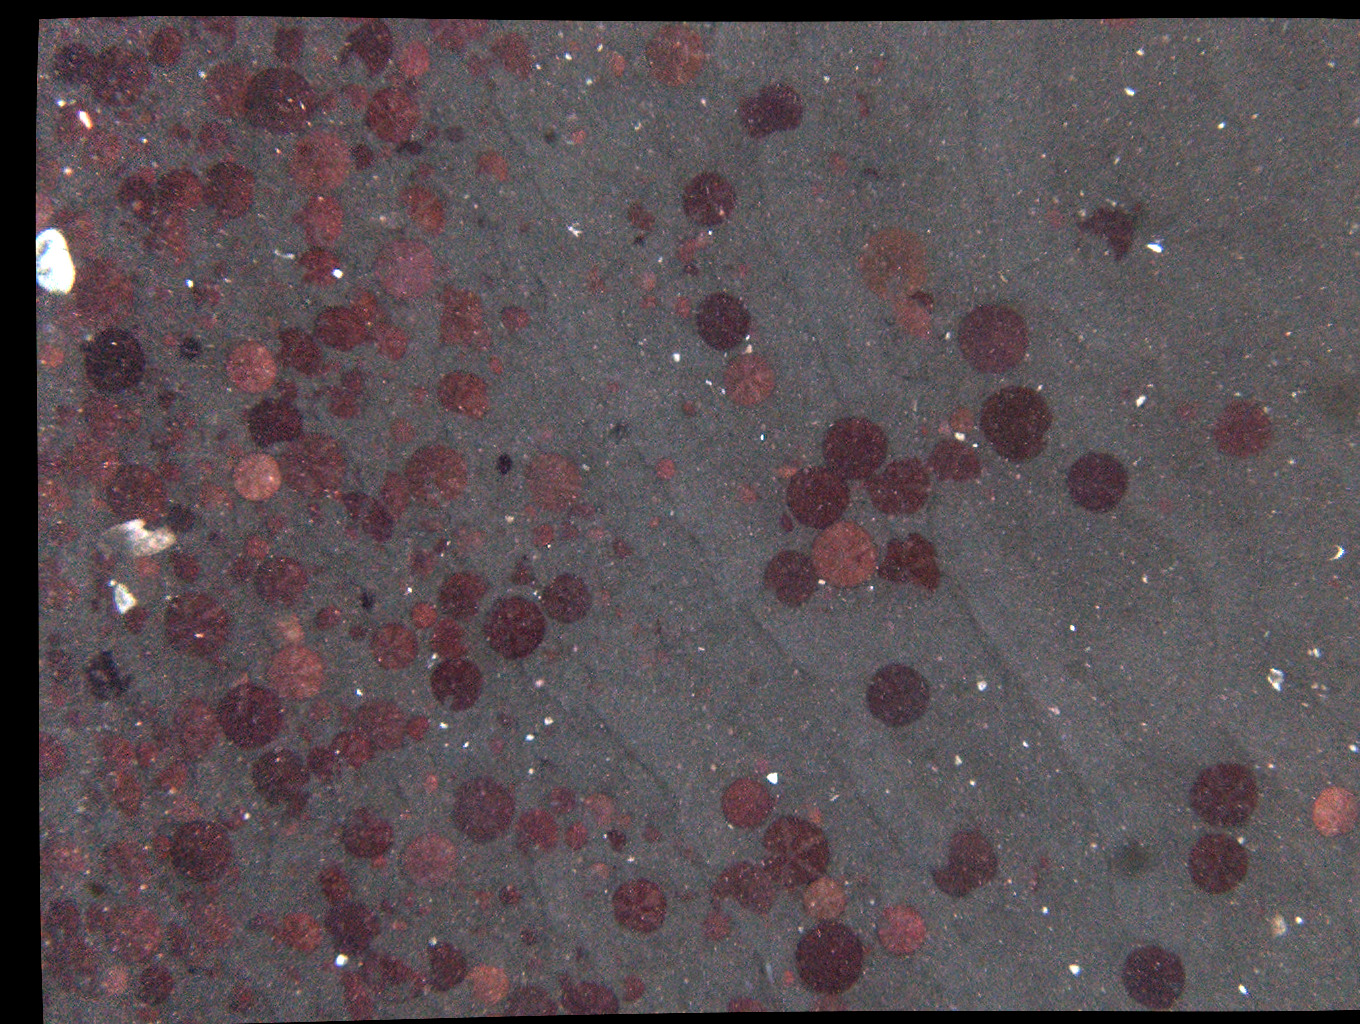Small shell hash: (57, 22, 80, 37)
Substrate A: (108, 11, 127, 28)
sand dollar: (987, 387, 1061, 463), (857, 227, 932, 297), (71, 250, 142, 321), (479, 596, 552, 665), (817, 520, 888, 588), (930, 829, 1001, 896), (642, 25, 710, 94), (247, 65, 314, 134), (867, 665, 935, 730), (1209, 396, 1278, 461), (162, 594, 232, 658), (1187, 837, 1255, 902), (1187, 764, 1255, 829), (958, 305, 1026, 371), (613, 880, 679, 945), (1079, 200, 1146, 266), (1118, 944, 1186, 1009), (764, 824, 832, 888), (824, 412, 891, 475), (224, 685, 288, 750), (1066, 449, 1133, 511), (407, 443, 476, 502), (283, 432, 343, 499), (450, 778, 514, 840), (787, 465, 850, 525), (86, 46, 151, 104), (884, 534, 944, 594), (85, 333, 147, 390), (714, 862, 776, 915), (51, 207, 108, 264), (427, 662, 484, 717), (368, 618, 425, 674), (522, 447, 579, 503), (326, 968, 383, 1024), (60, 931, 117, 987), (348, 478, 405, 534), (252, 563, 309, 618), (566, 959, 622, 1015), (504, 968, 561, 1024), (448, 961, 505, 1016), (190, 478, 247, 534), (333, 23, 390, 79), (283, 321, 340, 376), (137, 169, 194, 225), (34, 24, 91, 80), (86, 387, 143, 443), (61, 431, 118, 487), (765, 552, 822, 607), (1303, 781, 1360, 836), (875, 904, 932, 958), (714, 779, 771, 834), (438, 564, 495, 618), (547, 575, 604, 630), (924, 439, 980, 494), (873, 463, 930, 517), (896, 287, 953, 342), (692, 296, 749, 351), (721, 355, 778, 410), (263, 646, 320, 701), (376, 941, 433, 996), (328, 895, 385, 950), (335, 808, 392, 863), (249, 754, 306, 809), (274, 906, 331, 961), (170, 823, 227, 878), (102, 909, 159, 964), (90, 835, 147, 890), (164, 702, 221, 757), (337, 494, 393, 549), (513, 799, 570, 854), (348, 698, 405, 753), (417, 940, 474, 995), (403, 833, 460, 887), (110, 465, 167, 520), (185, 10, 242, 65), (198, 68, 255, 123), (377, 242, 434, 297), (431, 300, 488, 355), (142, 212, 199, 267), (199, 159, 256, 214), (370, 87, 427, 142), (395, 184, 452, 239), (290, 133, 347, 188), (427, 25, 484, 80), (478, 31, 535, 86), (741, 86, 798, 141), (683, 174, 740, 229), (436, 365, 493, 419), (237, 446, 294, 501), (249, 392, 306, 446), (312, 301, 369, 356), (224, 339, 281, 394), (323, 358, 380, 413), (283, 239, 340, 294), (294, 194, 350, 248), (92, 652, 137, 700), (805, 878, 849, 925), (37, 155, 76, 203), (85, 127, 124, 169), (37, 205, 60, 264), (804, 994, 859, 1019), (410, 504, 446, 541), (658, 284, 695, 321), (615, 210, 652, 246), (350, 137, 387, 173), (481, 354, 517, 390), (369, 323, 405, 359), (153, 382, 189, 418), (327, 79, 363, 115), (38, 480, 74, 516), (156, 454, 192, 490), (298, 749, 334, 785), (170, 547, 206, 584), (239, 524, 275, 560), (313, 605, 349, 641), (798, 791, 834, 827), (739, 751, 775, 787), (701, 907, 738, 943), (622, 977, 659, 1013), (225, 977, 261, 1013), (366, 849, 402, 885), (382, 894, 418, 930), (167, 790, 203, 826), (140, 835, 176, 871), (126, 733, 162, 769), (114, 781, 151, 817), (55, 694, 91, 730), (141, 966, 177, 1002), (180, 888, 216, 925), (497, 302, 533, 338), (566, 496, 601, 532), (527, 517, 563, 553), (482, 445, 518, 481), (557, 22, 593, 57), (667, 256, 703, 291), (626, 288, 662, 324), (624, 260, 660, 296), (428, 117, 464, 153), (384, 403, 420, 439), (350, 278, 386, 314), (163, 419, 199, 456), (51, 393, 86, 429), (399, 48, 435, 84), (276, 26, 312, 62), (157, 31, 194, 67), (196, 116, 232, 152), (116, 180, 152, 216), (169, 328, 205, 364), (186, 279, 221, 315), (37, 333, 73, 369), (309, 697, 345, 733), (77, 567, 113, 603), (121, 593, 157, 629), (166, 499, 202, 535), (295, 498, 331, 534), (221, 551, 257, 587), (433, 618, 469, 655), (515, 545, 552, 581), (444, 522, 479, 558), (779, 451, 815, 487), (1176, 392, 1212, 428), (1137, 481, 1173, 517), (731, 976, 767, 1012), (243, 910, 280, 945), (581, 854, 617, 890), (596, 816, 632, 852), (579, 790, 616, 825), (560, 820, 596, 856), (541, 783, 577, 819), (317, 867, 353, 904), (42, 842, 78, 878), (158, 760, 194, 797), (43, 651, 78, 687), (102, 962, 138, 998), (142, 989, 178, 1024), (169, 915, 205, 951), (202, 907, 238, 943), (1033, 195, 1069, 231), (648, 447, 684, 483), (592, 45, 628, 81), (676, 228, 712, 264), (575, 262, 611, 298), (401, 144, 436, 180), (552, 119, 587, 155), (477, 148, 513, 184), (160, 114, 196, 150), (59, 104, 95, 140), (405, 716, 441, 752), (46, 518, 82, 554), (334, 726, 370, 762), (121, 541, 157, 577), (607, 532, 643, 568), (405, 545, 441, 581), (404, 597, 440, 632), (273, 603, 309, 639), (735, 477, 771, 512), (763, 498, 799, 534), (948, 401, 984, 437), (488, 872, 524, 908), (774, 955, 810, 991), (520, 912, 556, 948), (633, 816, 669, 852), (488, 729, 524, 765), (232, 797, 268, 833), (51, 897, 86, 933), (132, 688, 168, 724), (89, 733, 125, 768), (417, 769, 453, 802)
